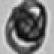correct: (5, 0, 48, 52)
